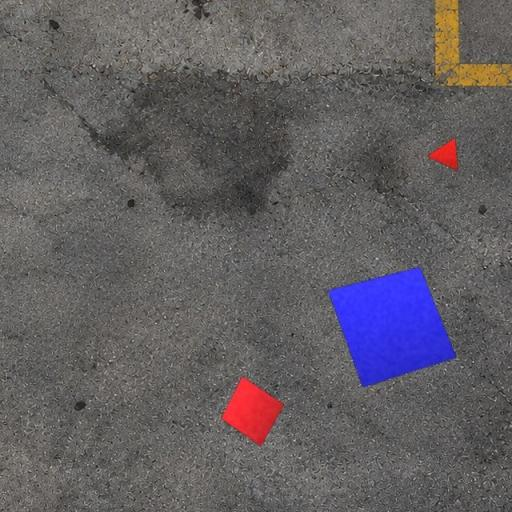BLUE_SQUARE: (327, 266, 458, 388)
RED_SQUARE: (221, 375, 285, 447)
